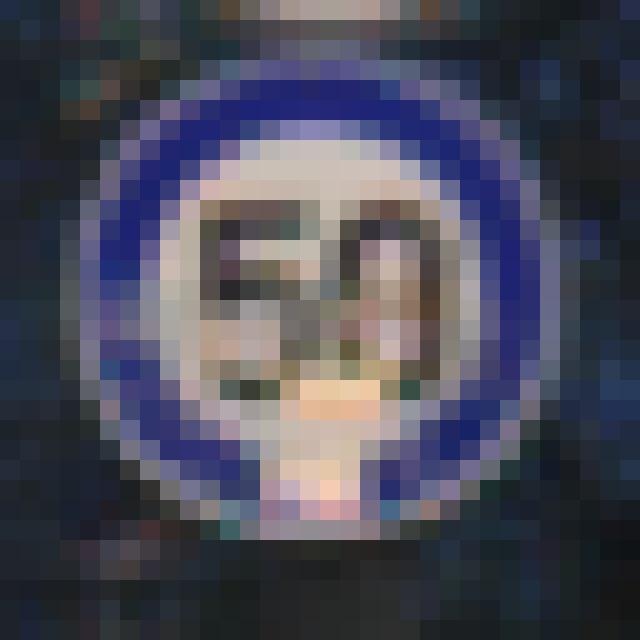SPEED LIMIT 50: (130, 108, 506, 494)
